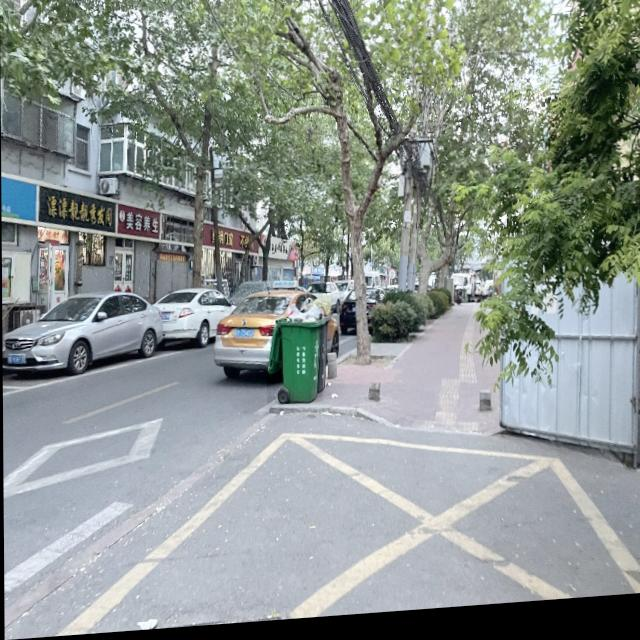overflow: (266, 300, 322, 410)
